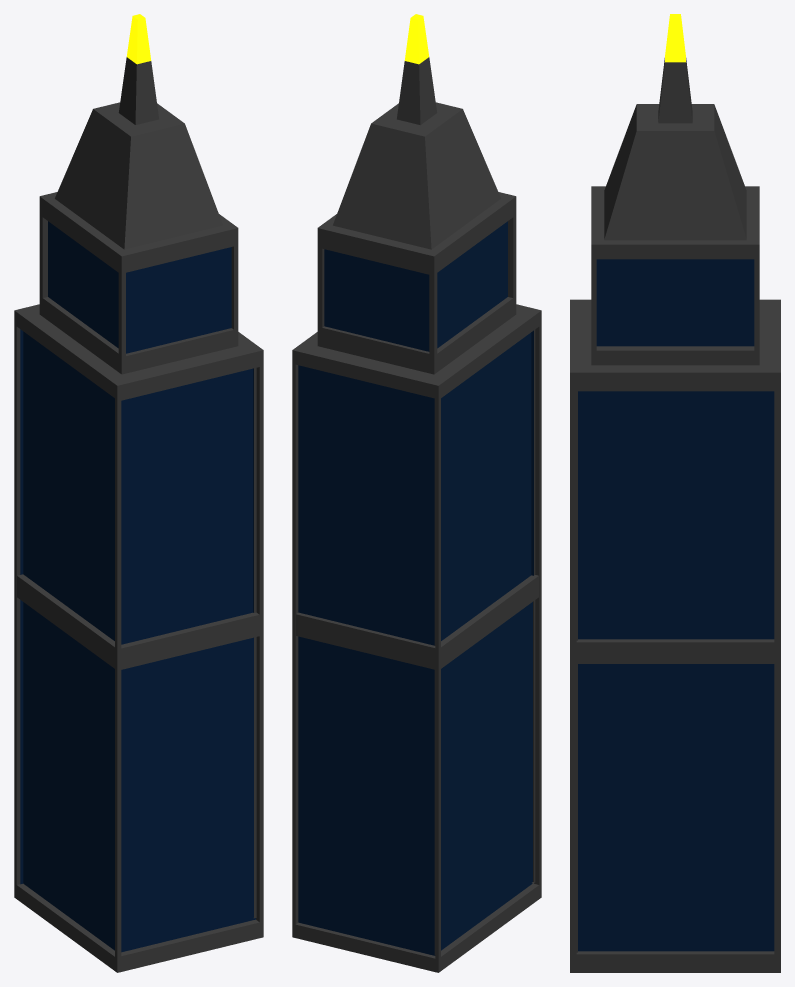
The model's file is BP_Skyscraper_6.fbx.
3 renders of one model, left to right at view 1: azimuth 30°, elevation 25°; view 2: azimuth 150°, elevation 25°; view 3: azimuth 270°, elevation 25°, orthographic. The views are drawn at different scales.
Visible parts, largest first — view 1: Cube.001; view 2: Cube.001; view 3: Cube.001.
Part boxes in pixels (x1,y1,x2,y2): Cube.001: (14, 14, 263, 972); Cube.001: (292, 14, 541, 972); Cube.001: (570, 14, 780, 972).
Bounding box in the file's own units: 270 × 1591 × 330.
